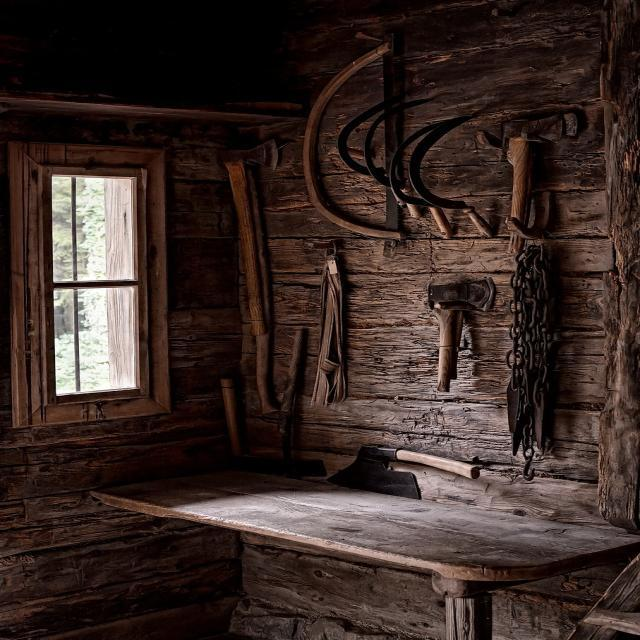Axe: (222, 140, 278, 335), (328, 446, 480, 498), (428, 278, 495, 391)
